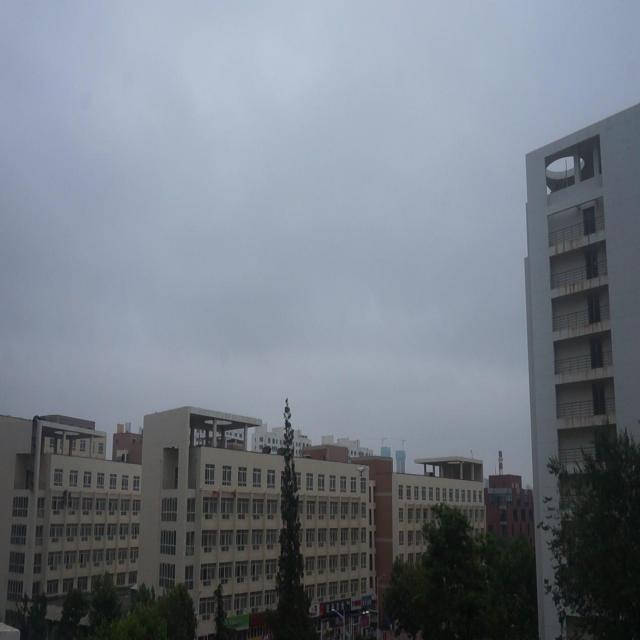UAV: (356, 465, 370, 477)
